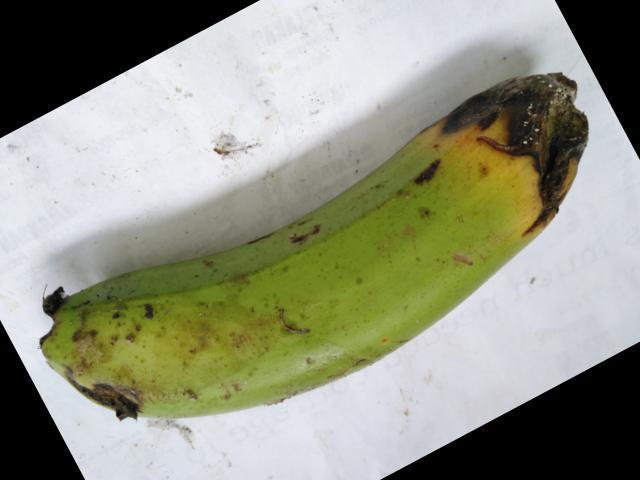rotten: (395, 50, 597, 245)
unripe: (29, 159, 441, 424)
